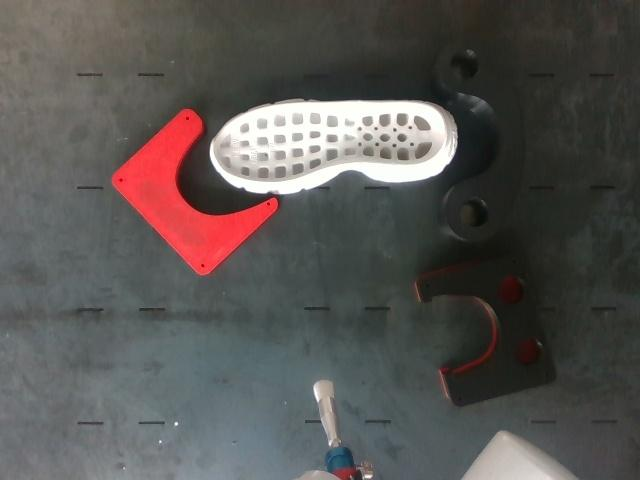shoes: (213, 102, 445, 182)
